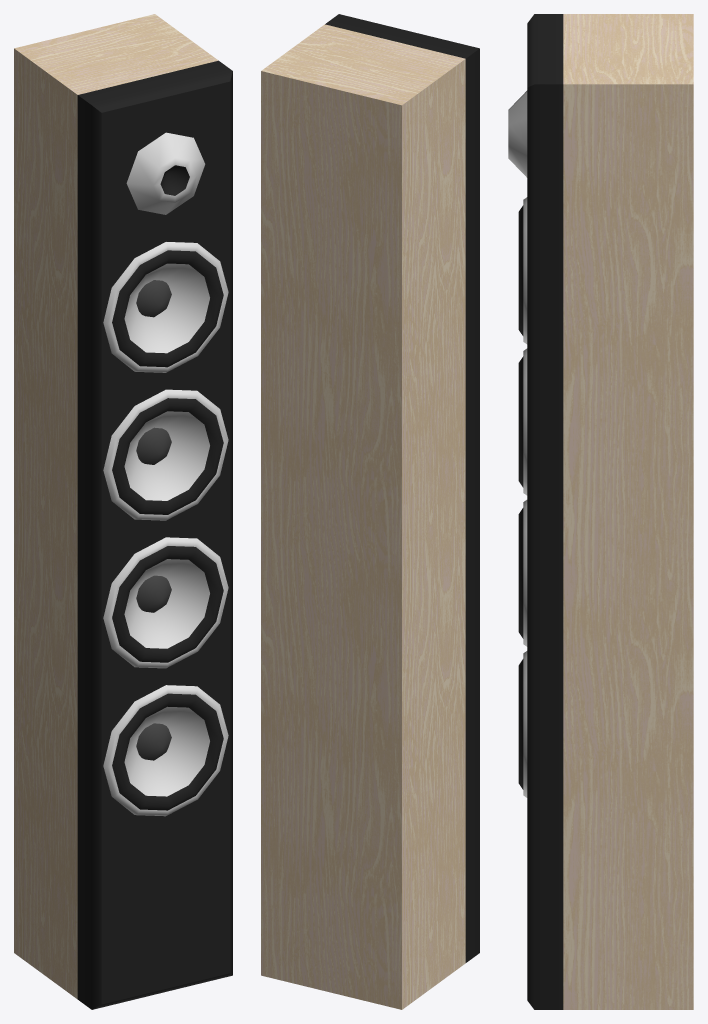
Rendered from entertainment_011.fbx.
The picture shows the model from 3 angles, left to right: view 1: azimuth 30°, elevation 25°; view 2: azimuth 150°, elevation 25°; view 3: azimuth 270°, elevation 25°; orthographic projection. The views are drawn at different scales.
Visible parts, largest first — view 1: entertainment_011; view 2: entertainment_011; view 3: entertainment_011.
Part boxes in pixels (x1,y1,x2,y2): entertainment_011: (14,14,232,1009); entertainment_011: (261,14,479,1009); entertainment_011: (508,14,693,1009).
Bounding box in the file's own units: 28.48 × 31.72 × 175.
